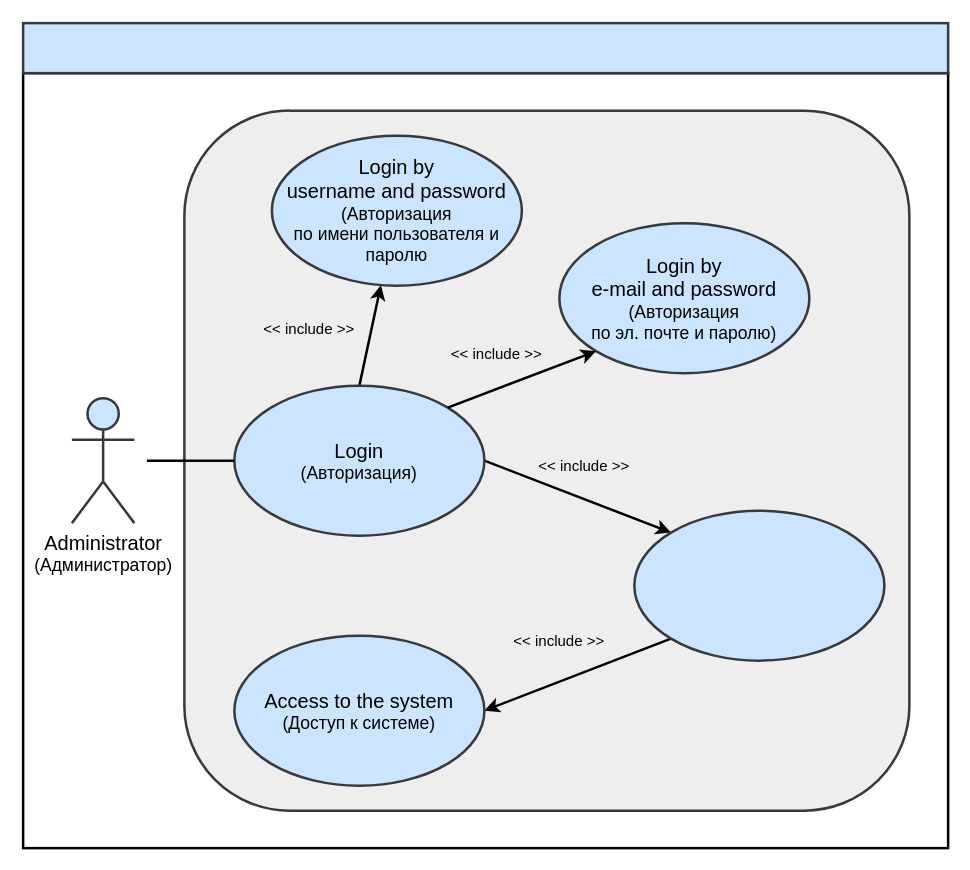
This 970x870 diagram has some shape labels left out. The centre of each missing label's shape, as x and y in pixels:
Login and password verification (Проверка логина и пароля): [758,585]
Use-case diagram (диаграмма вариантов использования): [485,47]
